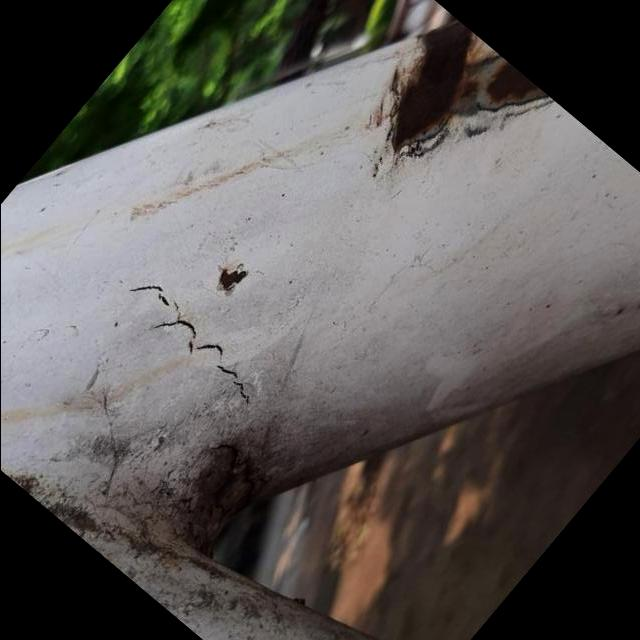defect: (124, 279, 258, 405)
